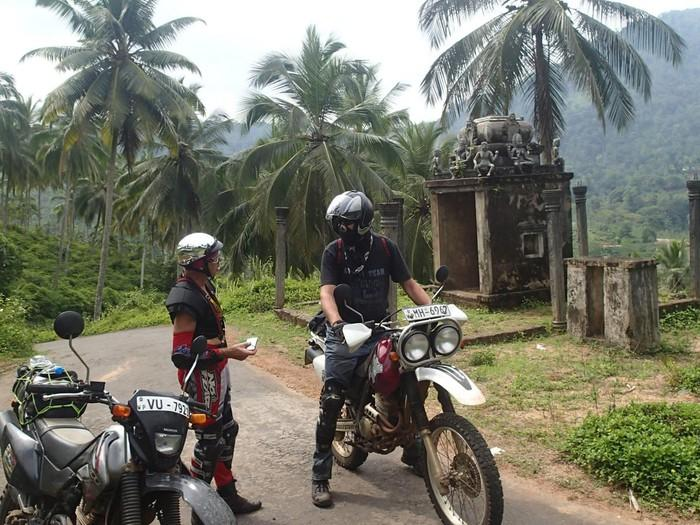motorbike: (306, 266, 505, 525), (1, 311, 237, 525)
